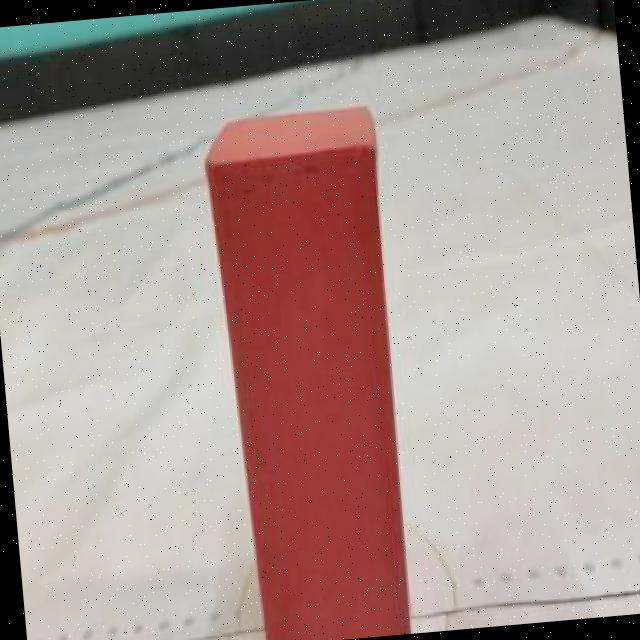redbox: (200, 104, 419, 640)
